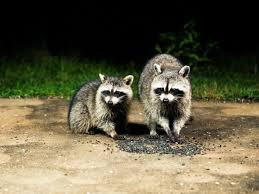raccoon: (60, 63, 144, 148), (134, 47, 203, 148)
